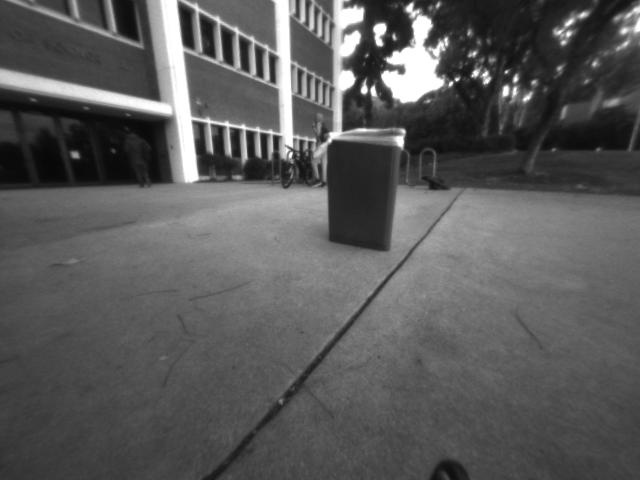trashcan: (318, 117, 412, 259)
